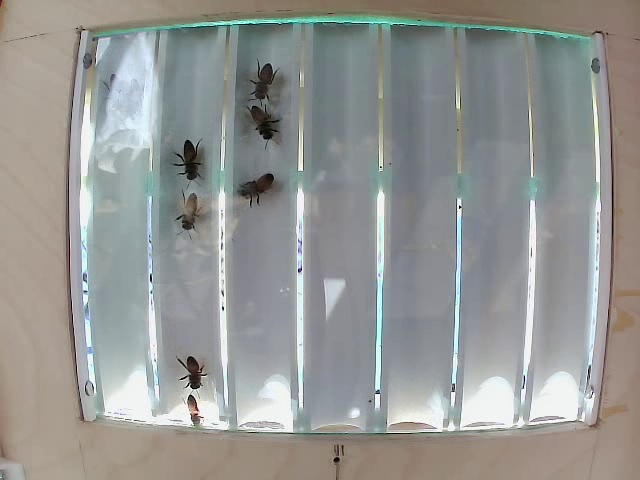bee: (170, 187, 214, 244), (233, 163, 284, 210), (167, 339, 216, 384), (167, 136, 211, 185), (243, 63, 288, 108), (249, 97, 278, 148)
